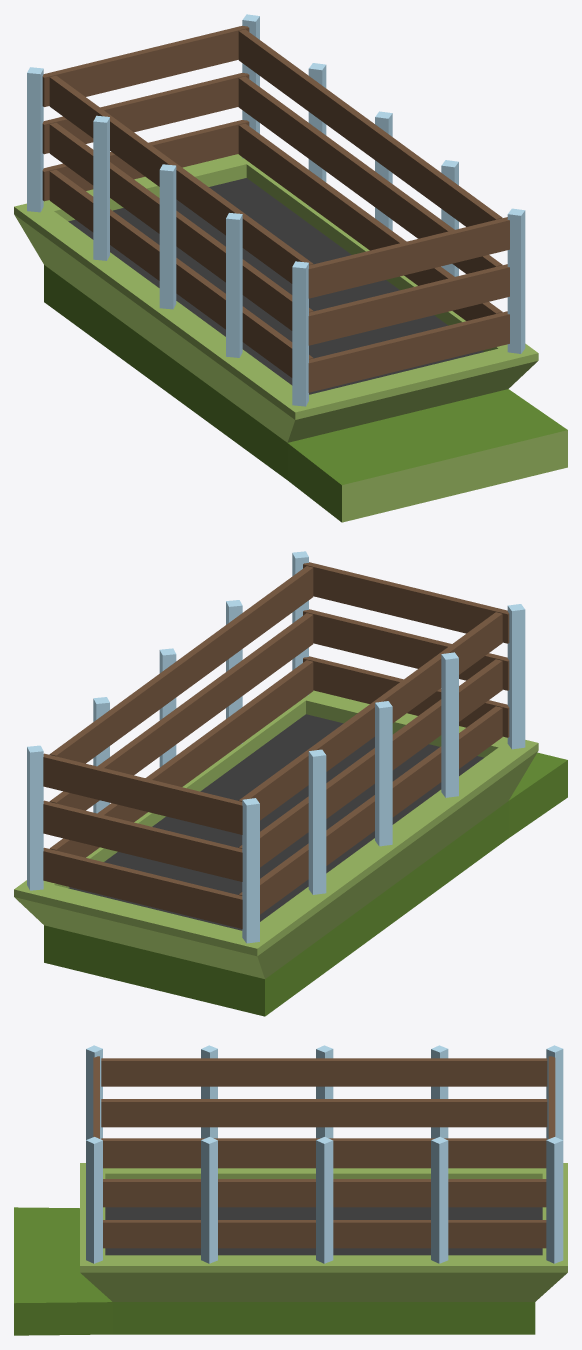
File: ural4320_back_0.glb
3 views of the same model, one above another, from view 1: azimuth 30°, elevation 25°; view 2: azimuth 150°, elevation 25°; view 3: azimuth 270°, elevation 25° (orthographic). The views are drawn at different scales.
Parts seen in each view (by area): view 1: Cube.008, Cube.010, Cube.011, Cube.009; view 2: Cube.008, Cube.010, Cube.011, Cube.009; view 3: Cube.010, Cube.008, Cube.009, Cube.011.
Part boxes in pixels (box(x1,y1,x2,y2)): Cube.008: box(14, 154, 567, 522); Cube.010: box(49, 29, 502, 377); Cube.011: box(42, 25, 509, 392); Cube.009: box(27, 14, 525, 406); Cube.008: box(14, 690, 567, 1016); Cube.010: box(49, 566, 502, 914); Cube.011: box(43, 562, 509, 928); Cube.009: box(27, 551, 525, 943); Cube.010: box(101, 1058, 547, 1248); Cube.008: box(14, 1163, 567, 1335); Cube.009: box(86, 1045, 563, 1263); Cube.011: box(93, 1056, 555, 1138).
Size of the model in its own units: 0.9641 by 0.8427 by 2.19.
Materials: 1 (1 with a texture image).
